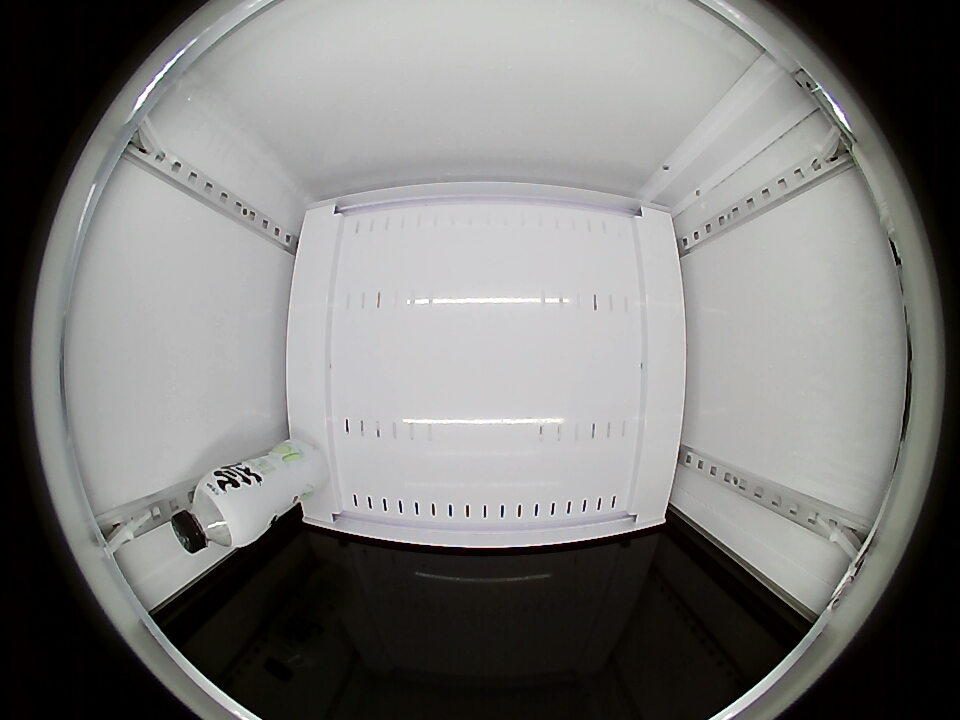yuanqishui: (169, 471, 261, 554)
